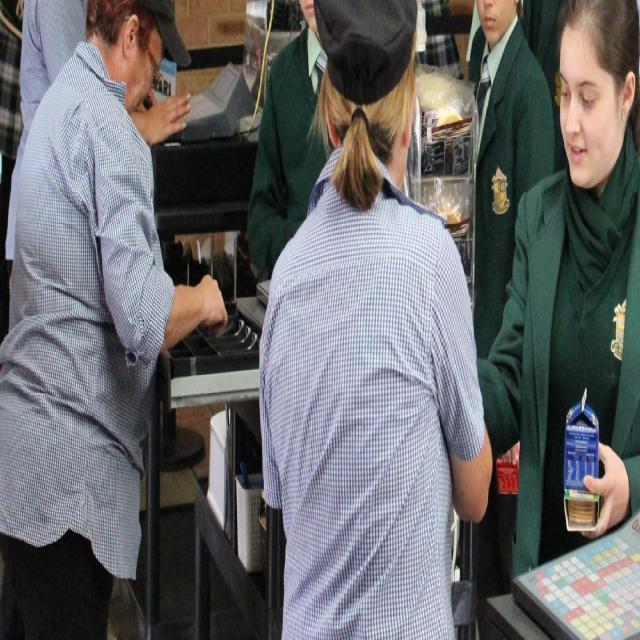body: (249, 0, 501, 639), (0, 0, 229, 639), (0, 0, 195, 639), (247, 0, 421, 639), (469, 0, 640, 594), (466, 0, 560, 374), (516, 2, 560, 94), (551, 94, 568, 168)
